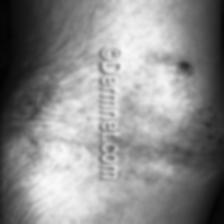Non-Cancerous Skin Condition: (168, 102, 224, 187), (10, 82, 60, 166), (166, 54, 206, 90), (50, 217, 110, 224)
